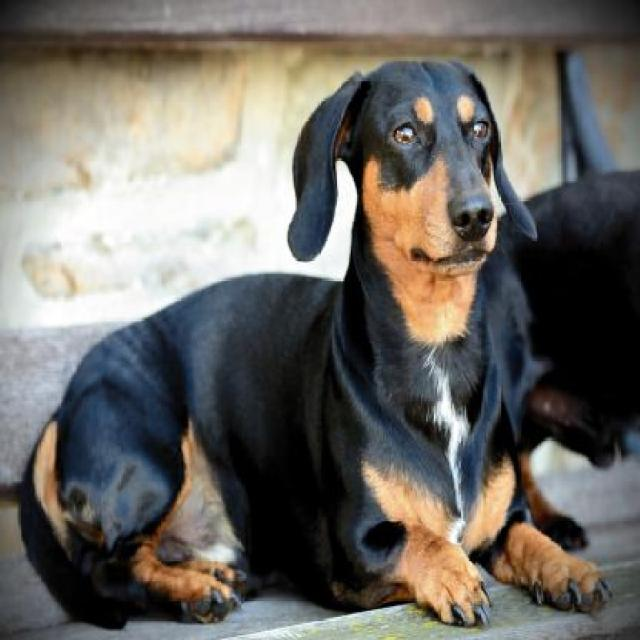Dog: (18, 49, 617, 638)
